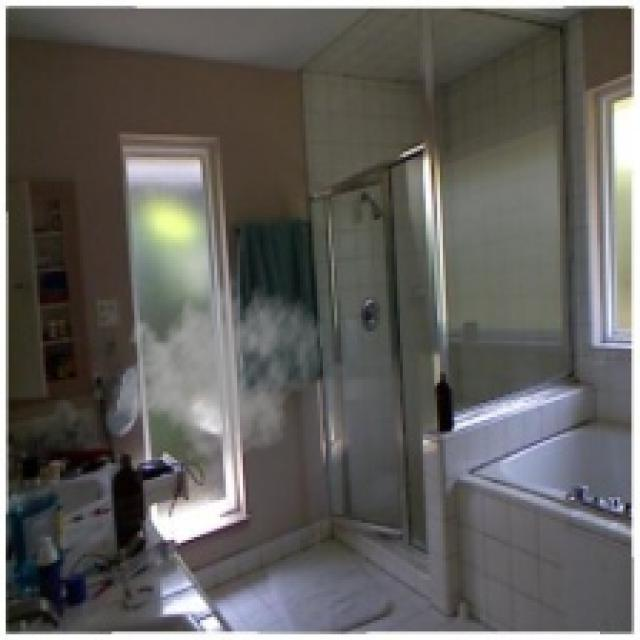Smoke: (114, 266, 326, 472)
